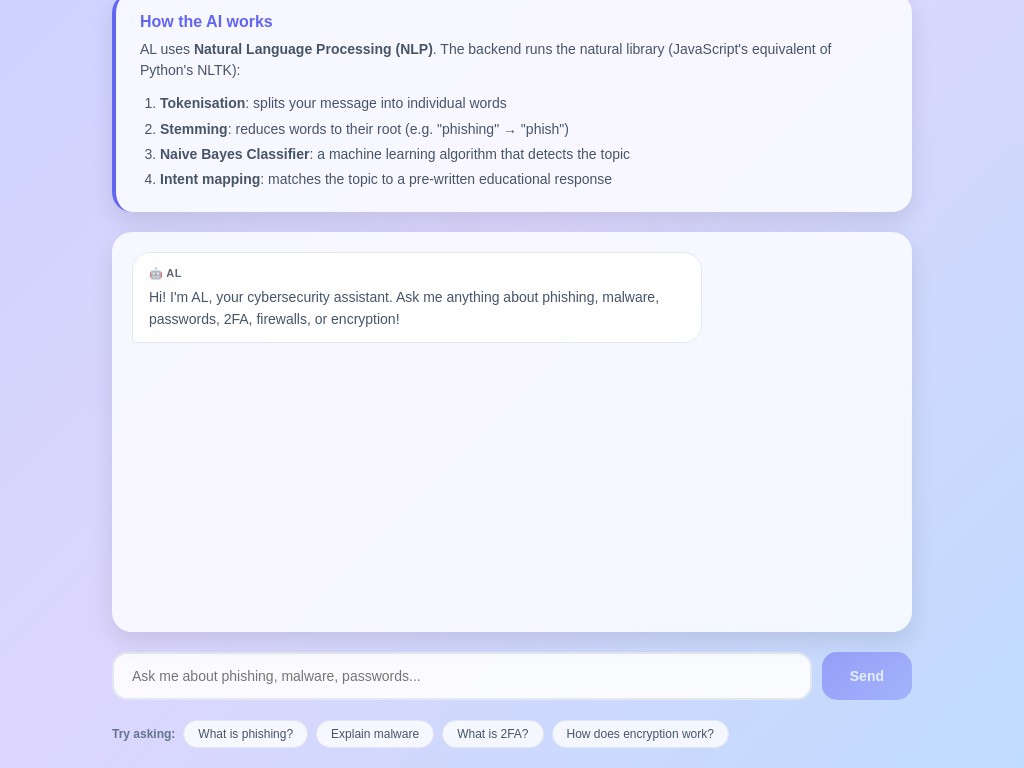
it: AI Chatbot Assistant (AL) › shows "Thinking..." while loading
(page scrolled)
Type "Explain malware" into the field with placeholder "Ask me about phishing, malware, passwords...". click: (462, 676)
box: 112,652 -> 812,700
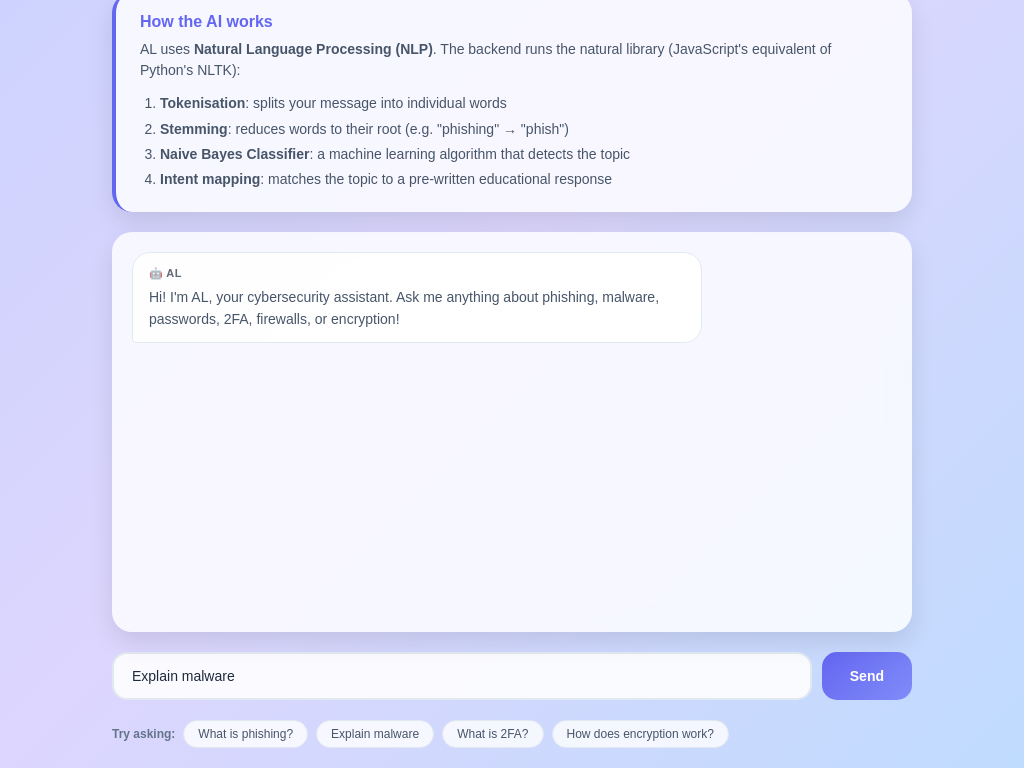
Click the button "Send". click: (867, 676)
box: 822,652 -> 912,700
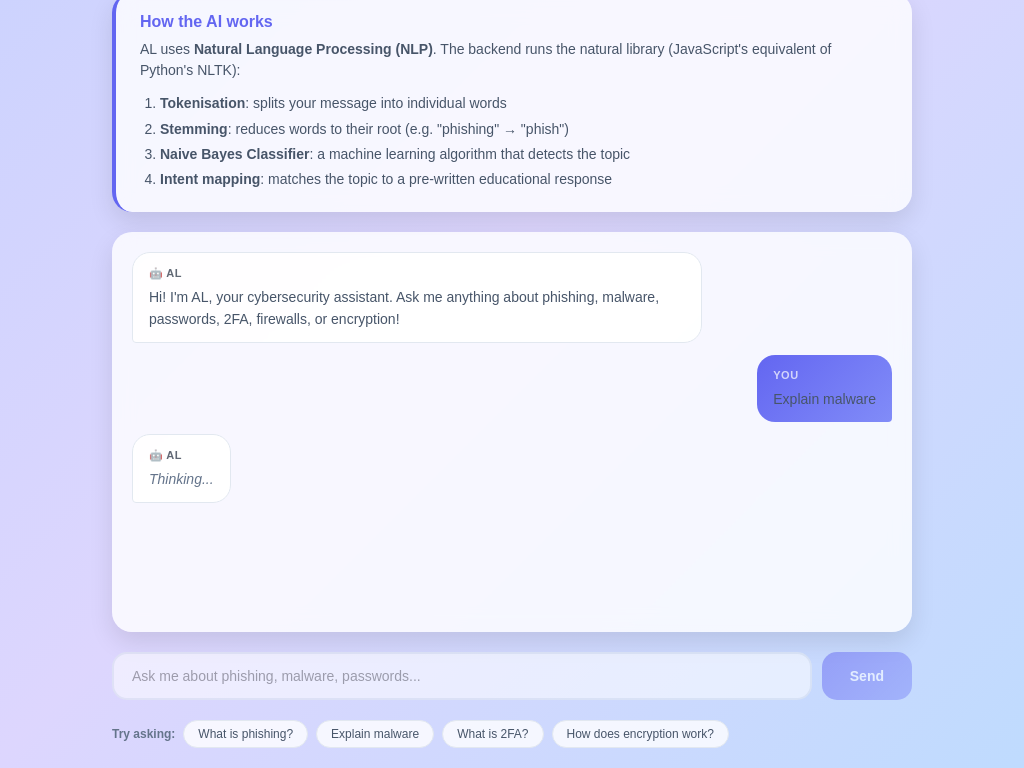
Expected: the text "Thinking..." is shown, 149,468 -> 214,490
